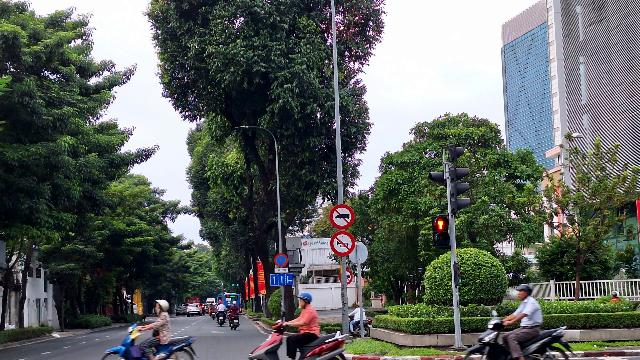cam-bop-coi: (330, 230, 355, 256)
cam-do-xe: (274, 253, 288, 267)
